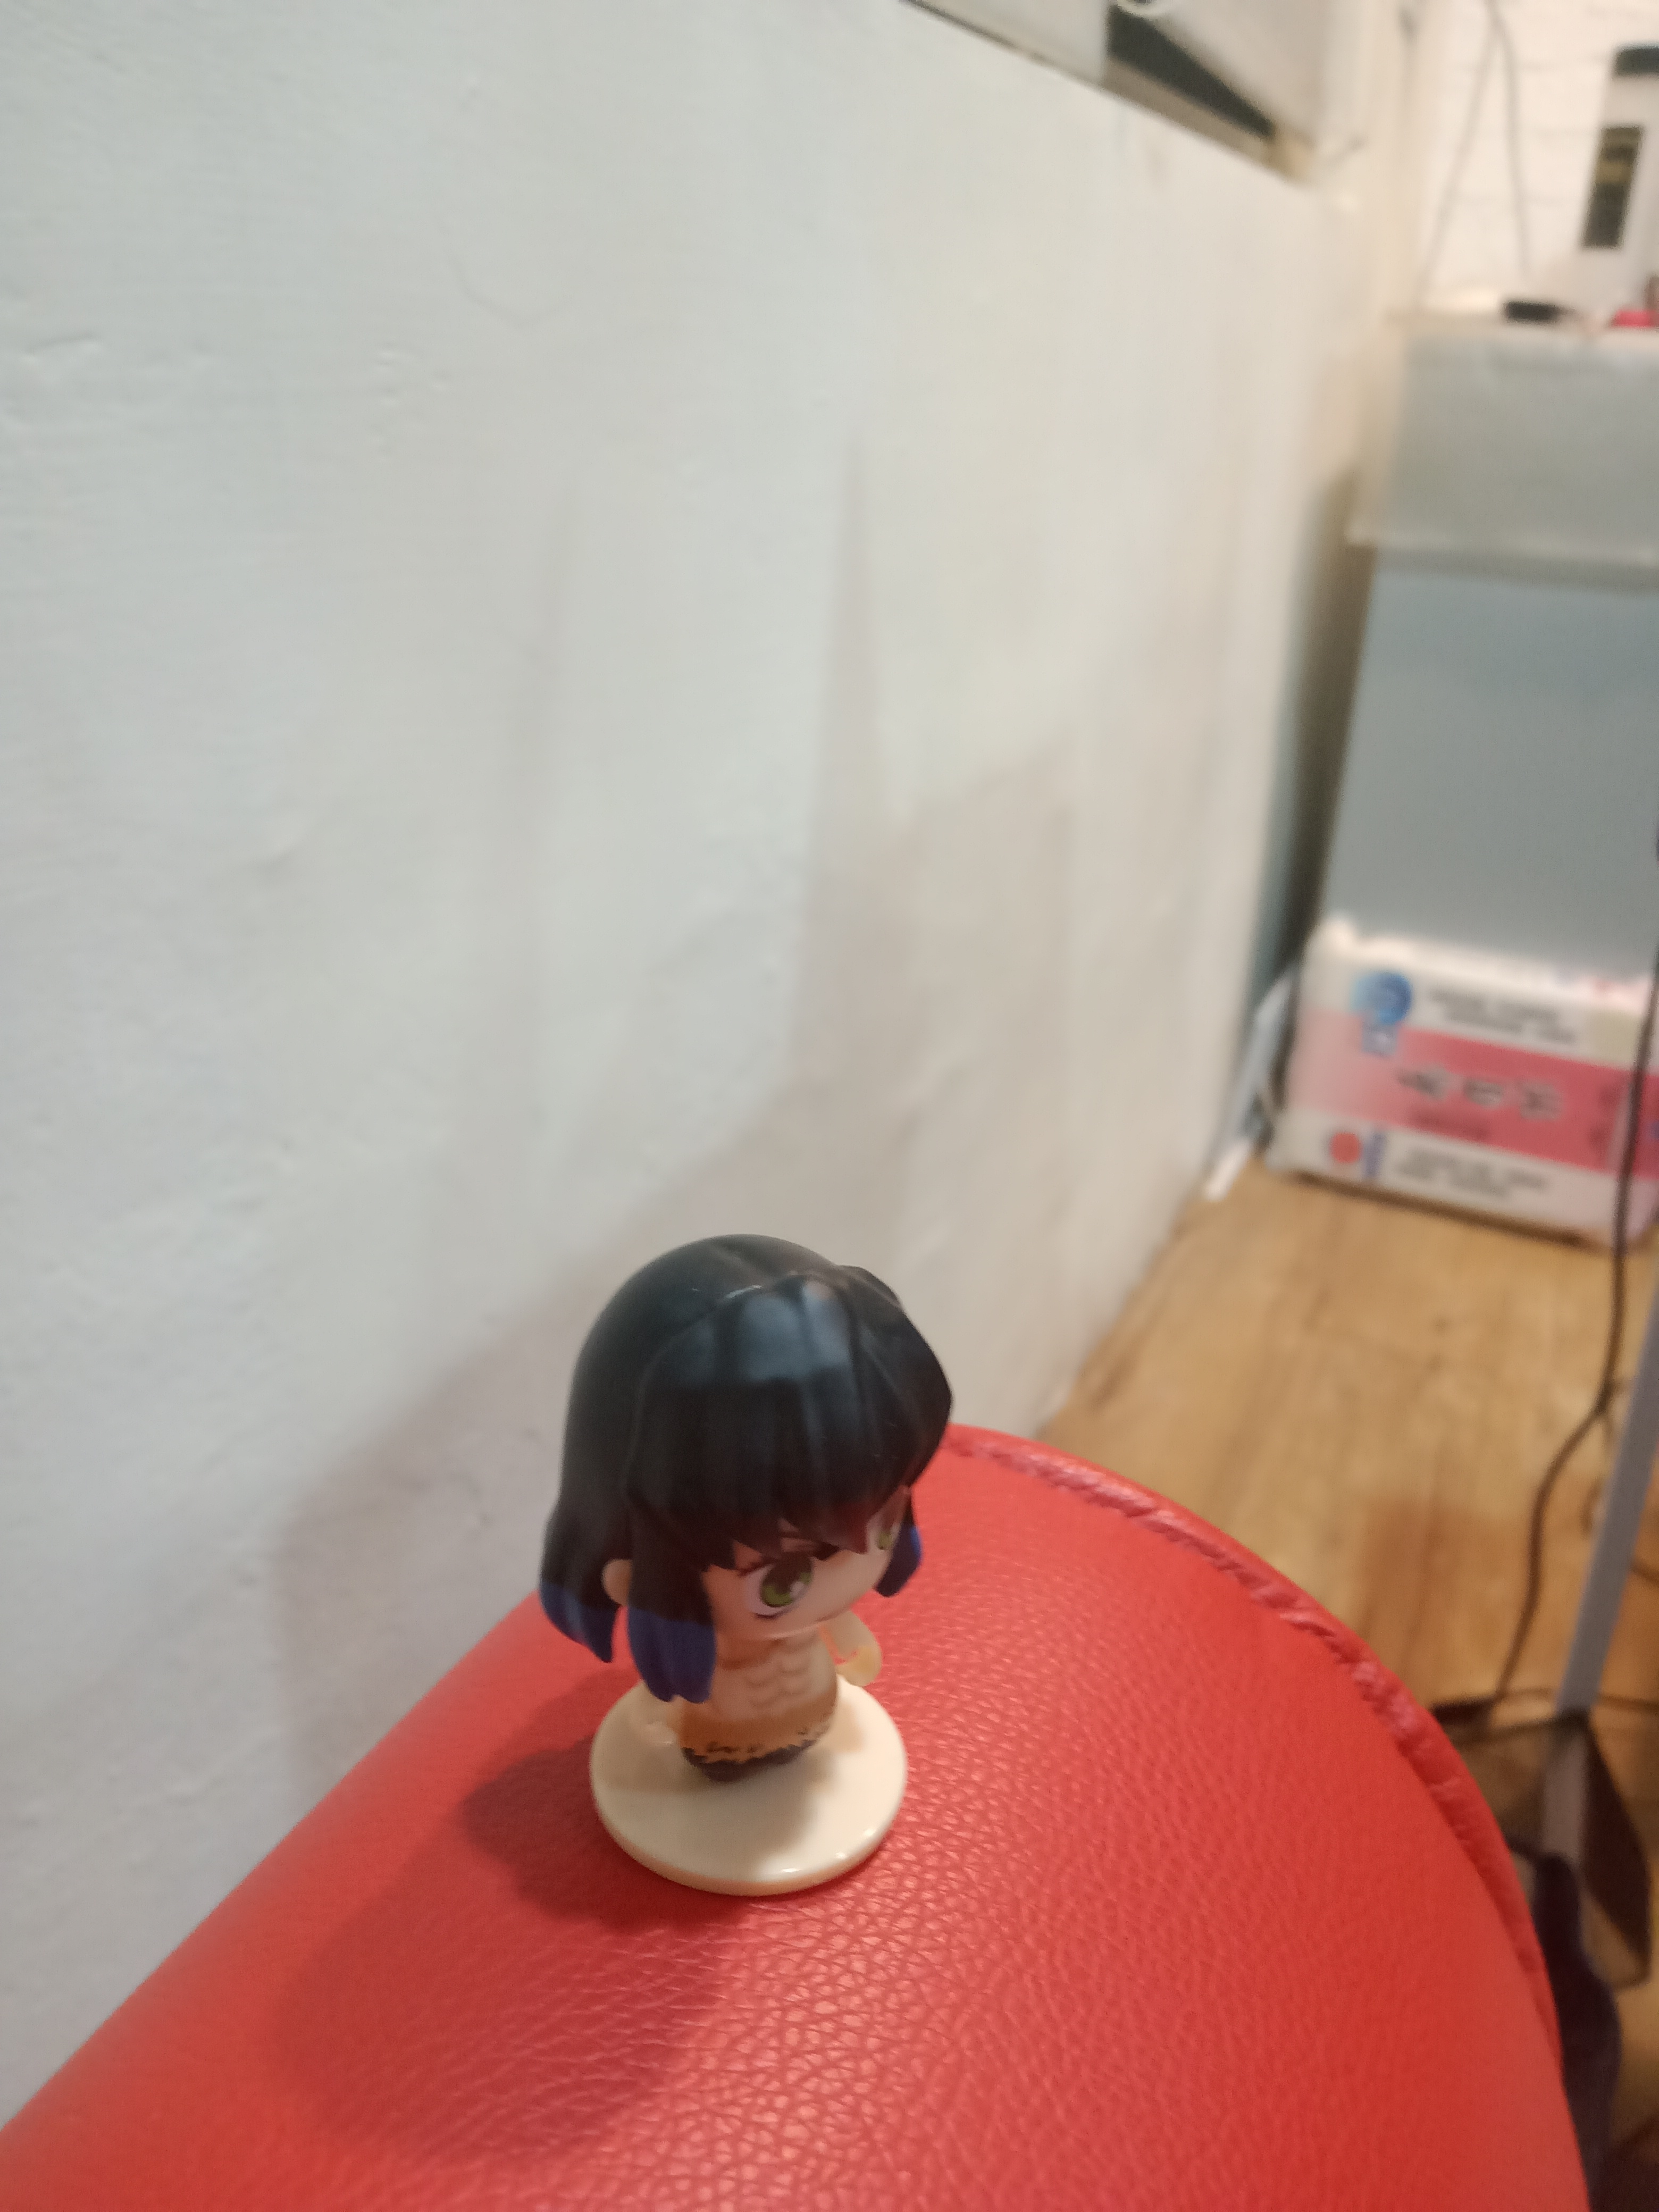Inosuke: (530, 1224, 969, 1921)
